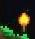torchT: (0, 1, 35, 39)
